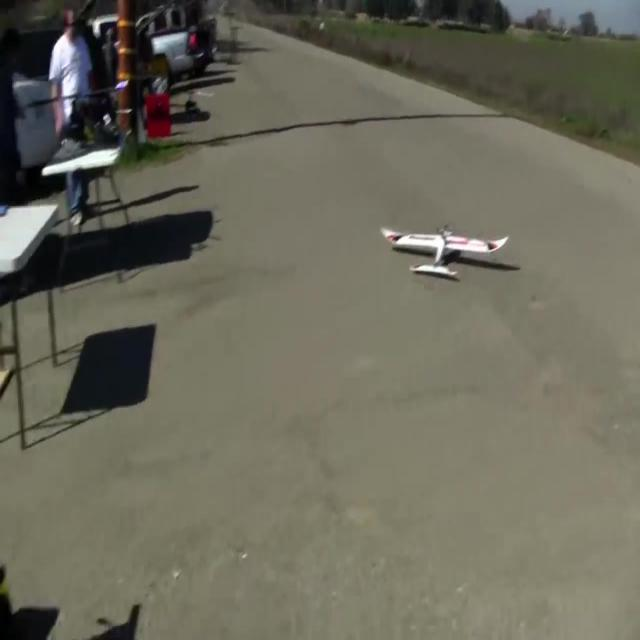iha: (377, 224, 511, 280)
